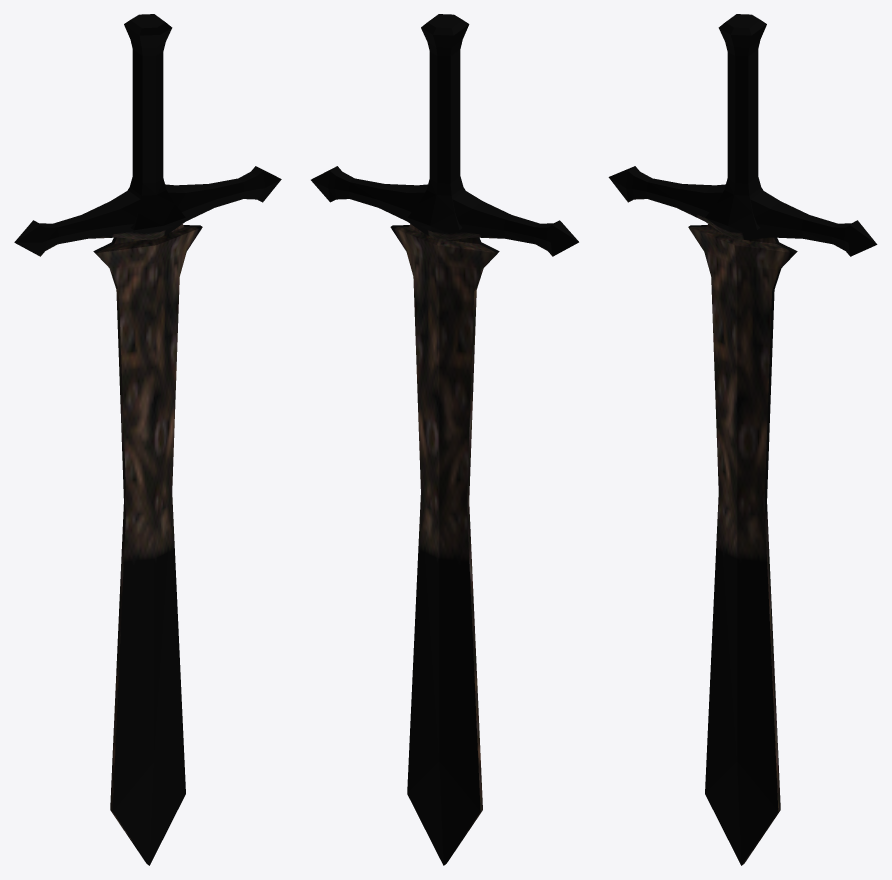
Rendered from icon_0.ico.obj.
3 renders of one model, left to right at view 1: azimuth 30°, elevation 25°; view 2: azimuth 150°, elevation 25°; view 3: azimuth 330°, elevation 25°, orthographic.
Bounding box in the file's own units: 1.34 × 4.03 × 0.2617.
